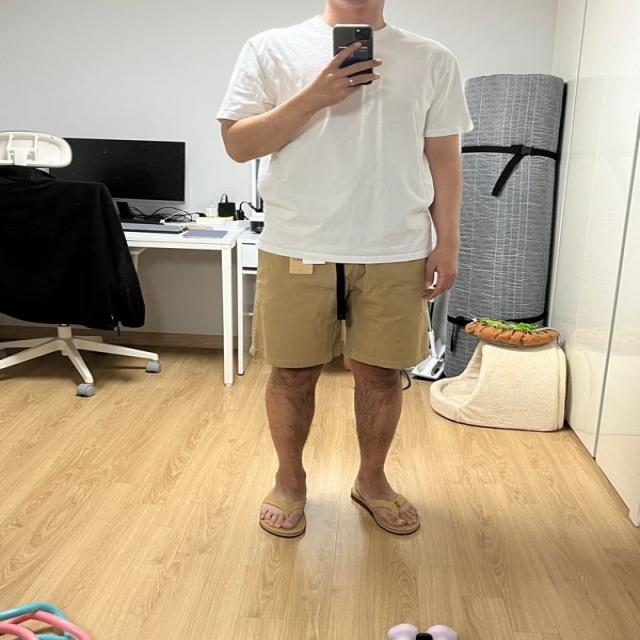shortpants: (251, 241, 432, 369)
shortsleeve: (215, 10, 474, 266)
